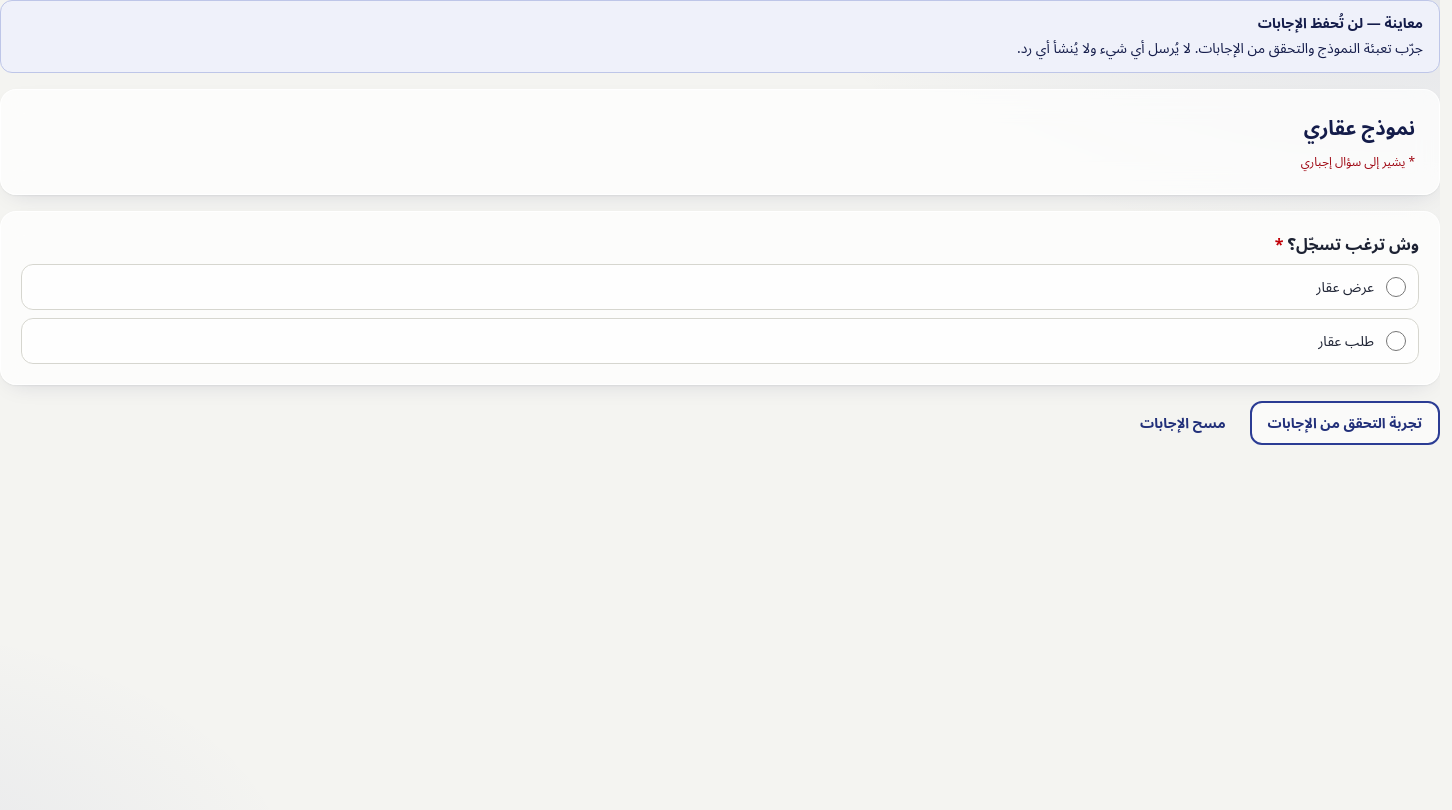
Test: الأسئلة الشرطية في المعاينة › تظهر أسئلة المسار المختار فقط، وتغيير المسار ينبّه دون فقد الإجابات
This screenshot has width=1452, height=810.
Expected: the field labelled "السعر المطلوب" is not shown
Expected: the field labelled "الحد الأعلى للميزانية" is not shown
Click the radio button labelled "عرض عقار" at (1396, 287), box [1386,277,1406,297]
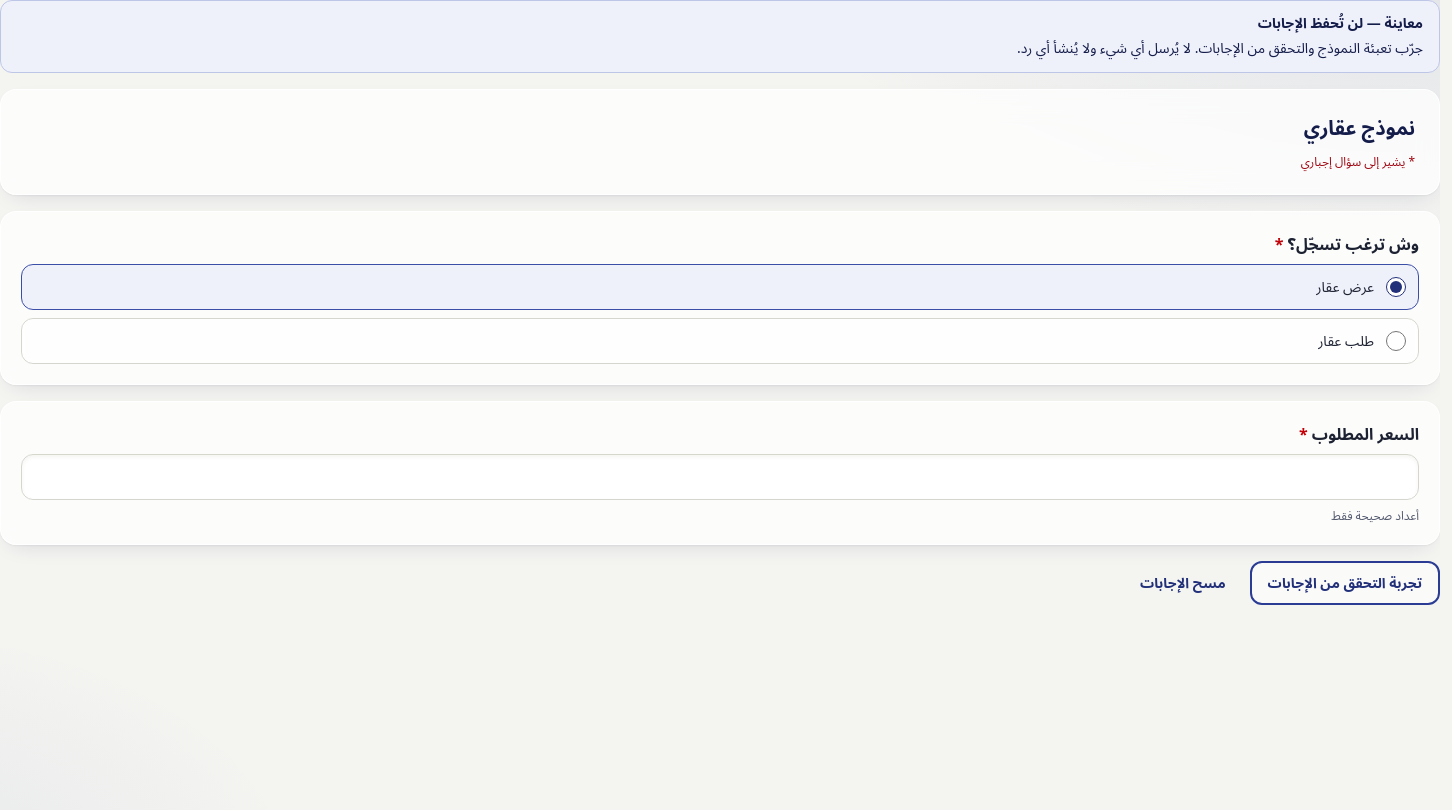
Type "950000" into the field labelled "السعر المطلوب *" at (720, 477), box [21,454,1419,500]
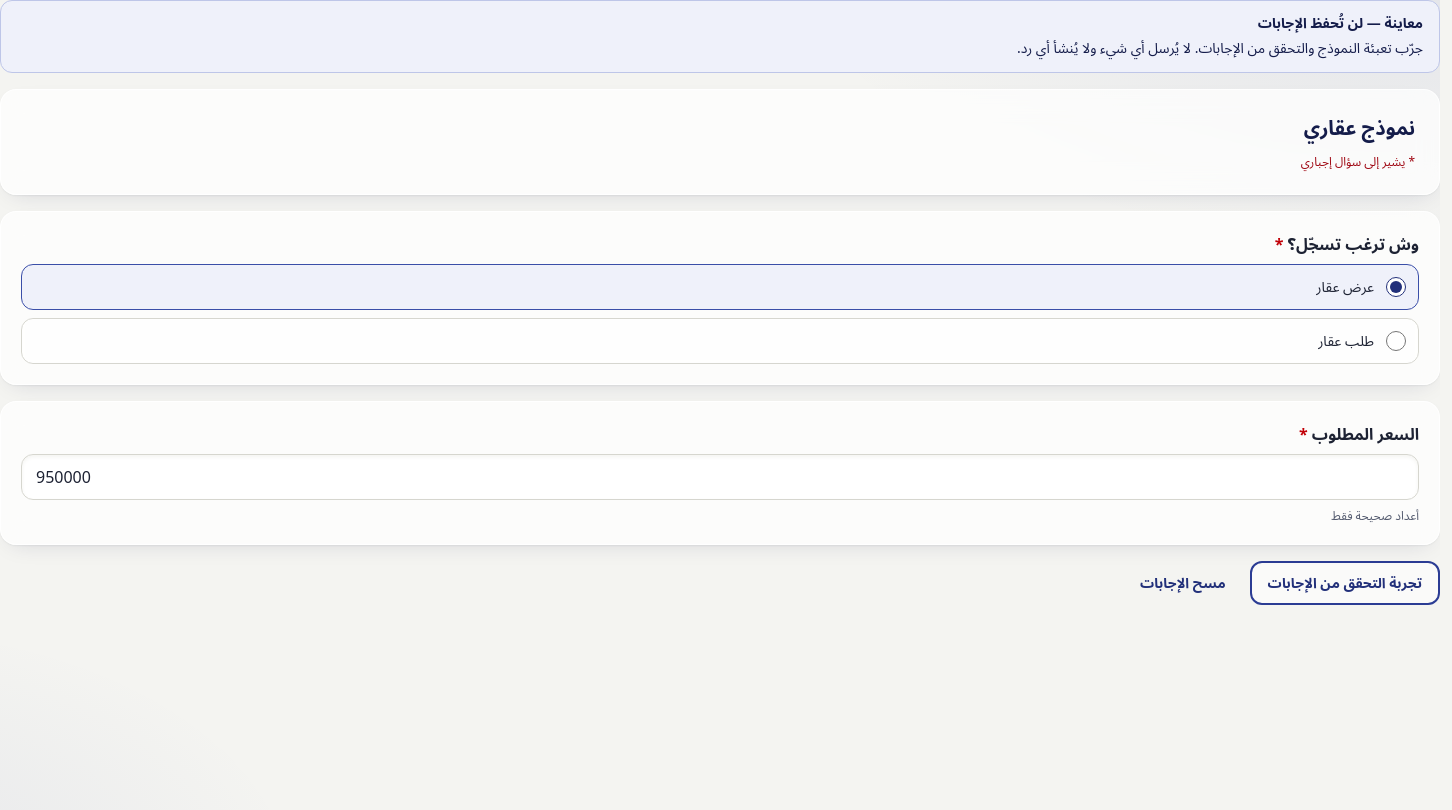
Expected: the field labelled "الحد الأعلى للميزانية" is not shown
Click the radio button labelled "طلب عقار" at (1396, 341), box [1386,331,1406,351]
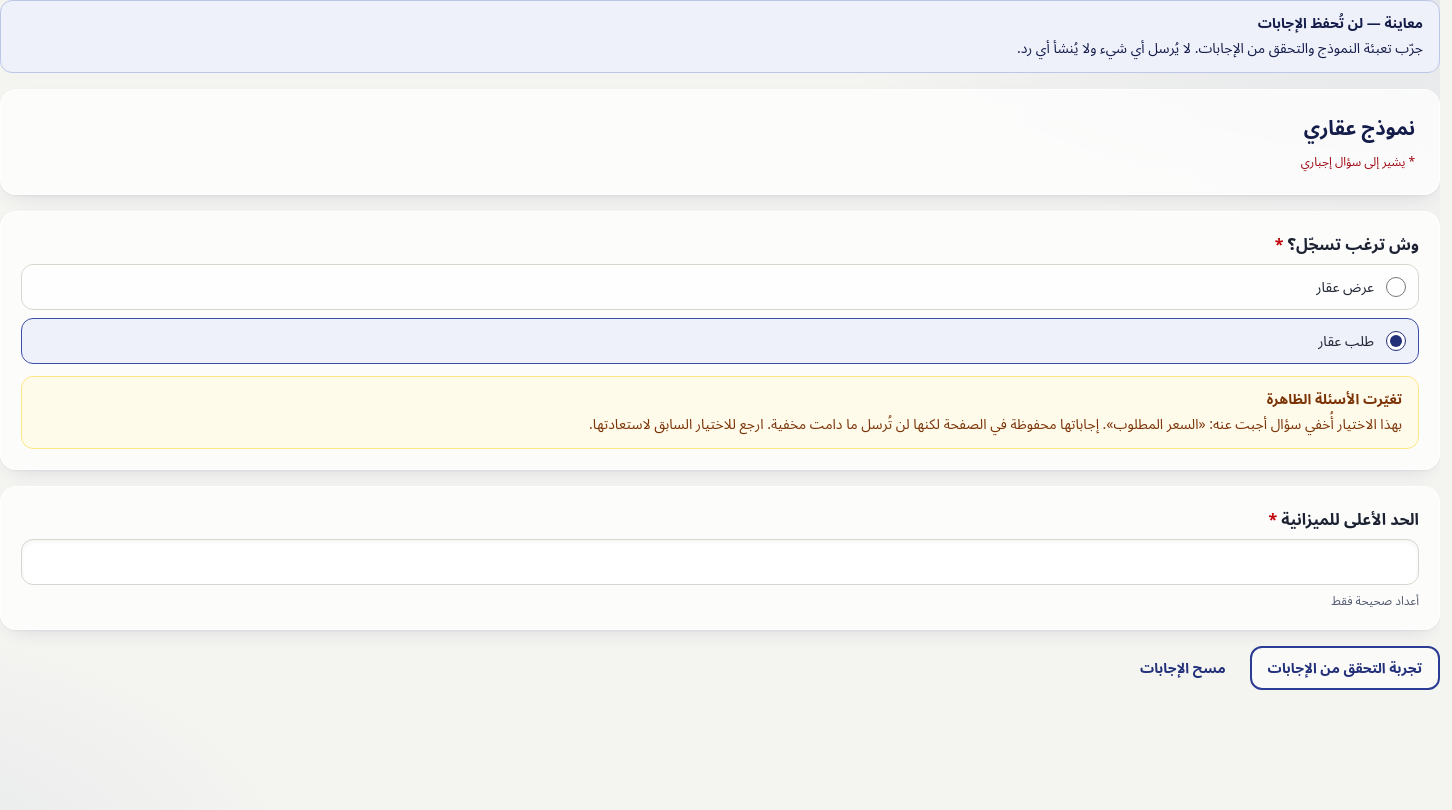
Result: the field labelled "الحد الأعلى للميزانية *" is shown at [21,538,1419,584]
Result: the text "بهذا الاختيار أُخفي سؤال أجبت عنه: «السعر المطلوب». إجاباتها محفوظة في الصفحة لكنها لن تُرسل" is shown at [589,414,1402,433]
الرجوع للمسار السابق يعيد الإجابة كما هي
Click the radio button labelled "عرض عقار" at (1396, 287), box [1386,277,1406,297]
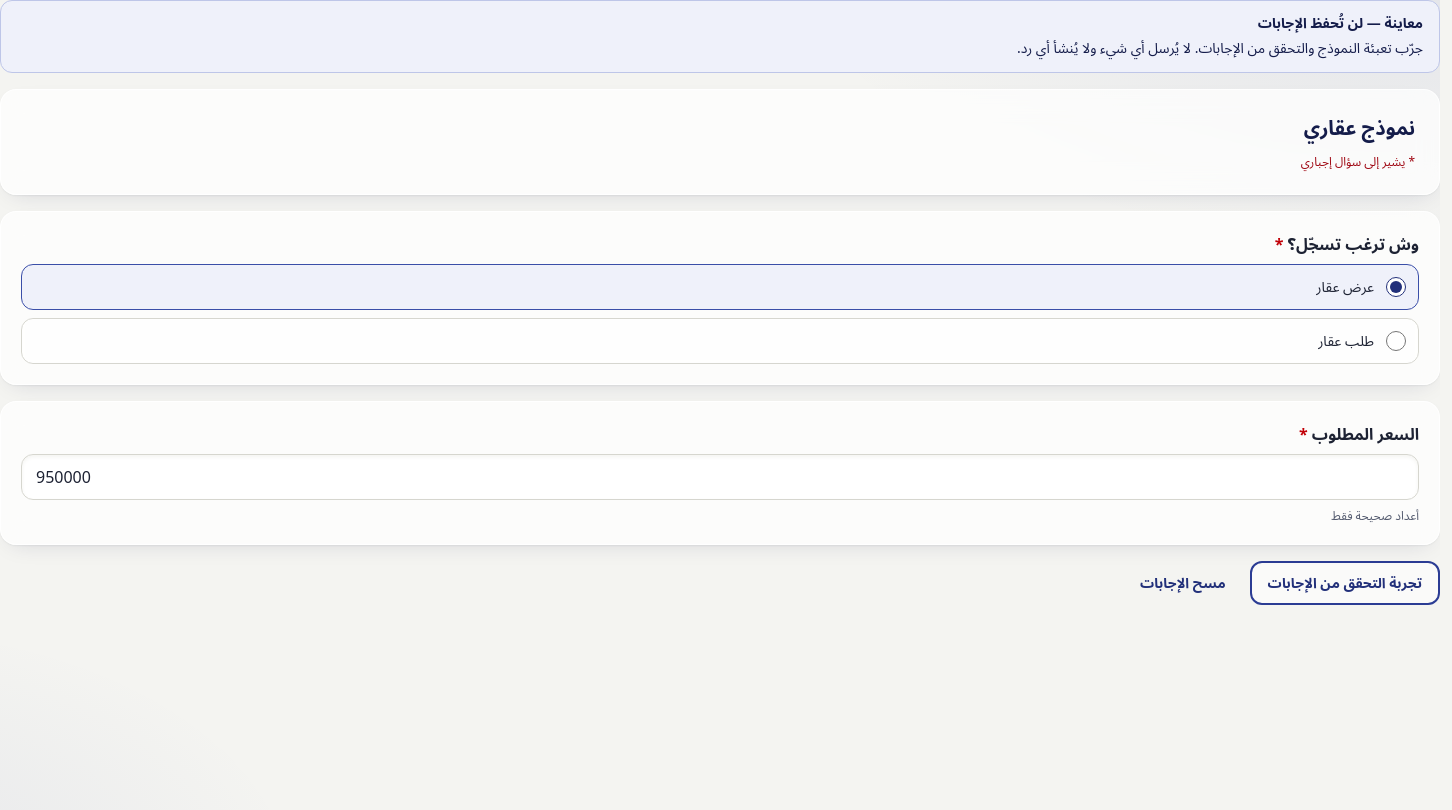
Result: the field labelled "السعر المطلوب *" holds "950000" at [21,454,1419,500]
التحقق يتجاهل الفرع المخفي
Click the button "تجربة التحقق من الإجابات" at (1345, 583), box [1250,561,1440,605]
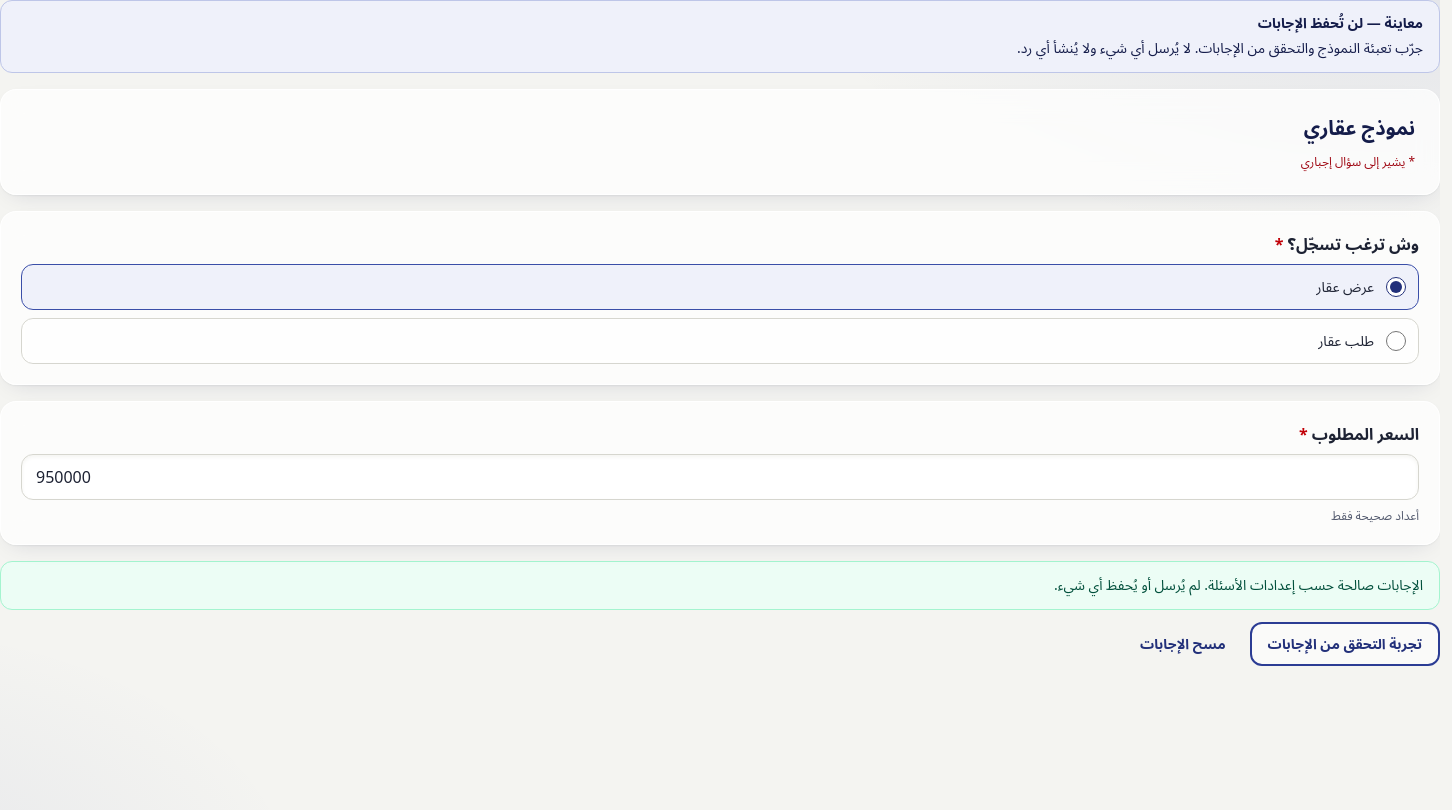
Result: the text "الإجابات صالحة" is shown at [1054,575,1423,594]
